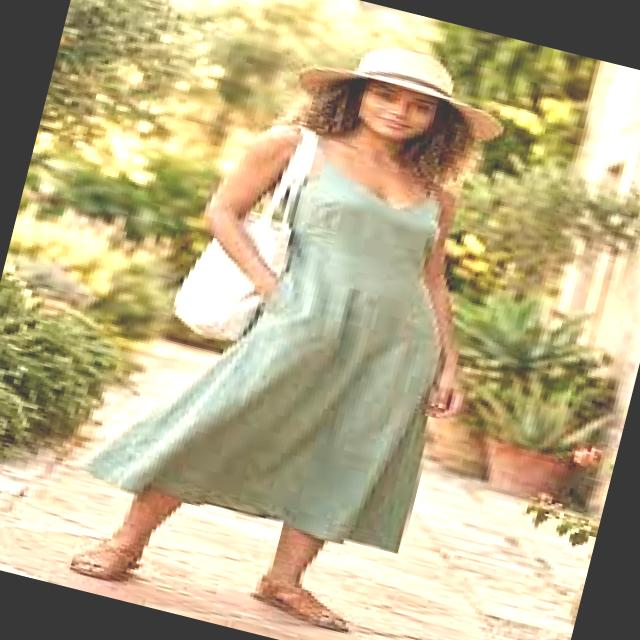dress: (83, 156, 441, 552)
hat: (298, 47, 503, 141)
